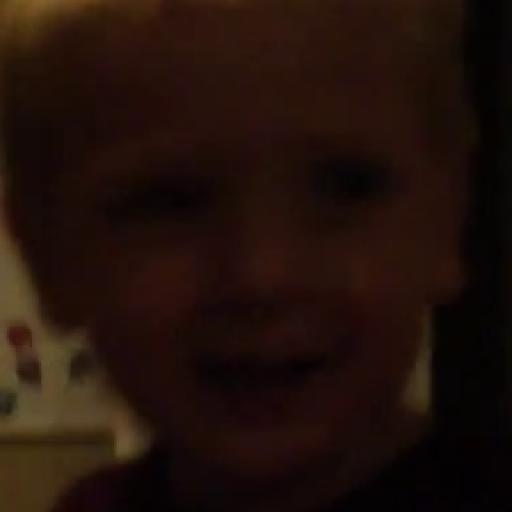Autism: (55, 36, 478, 512)
